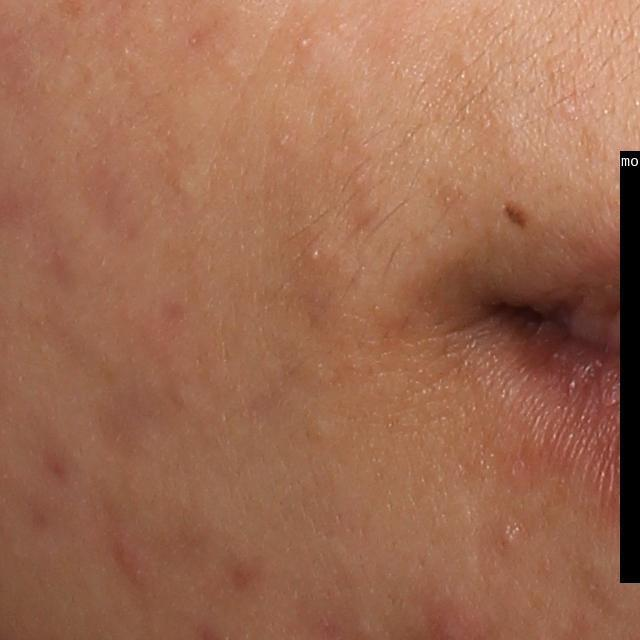comedo: (294, 405, 332, 451), (168, 166, 196, 197), (494, 524, 521, 556), (304, 244, 325, 262), (294, 32, 312, 52)
nevus: (500, 201, 531, 231)
papule: (114, 532, 152, 587)
